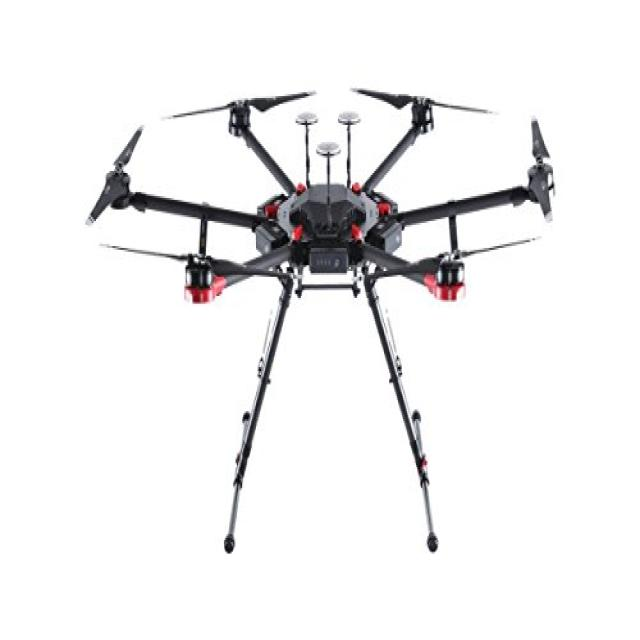drone: (88, 56, 596, 550)
